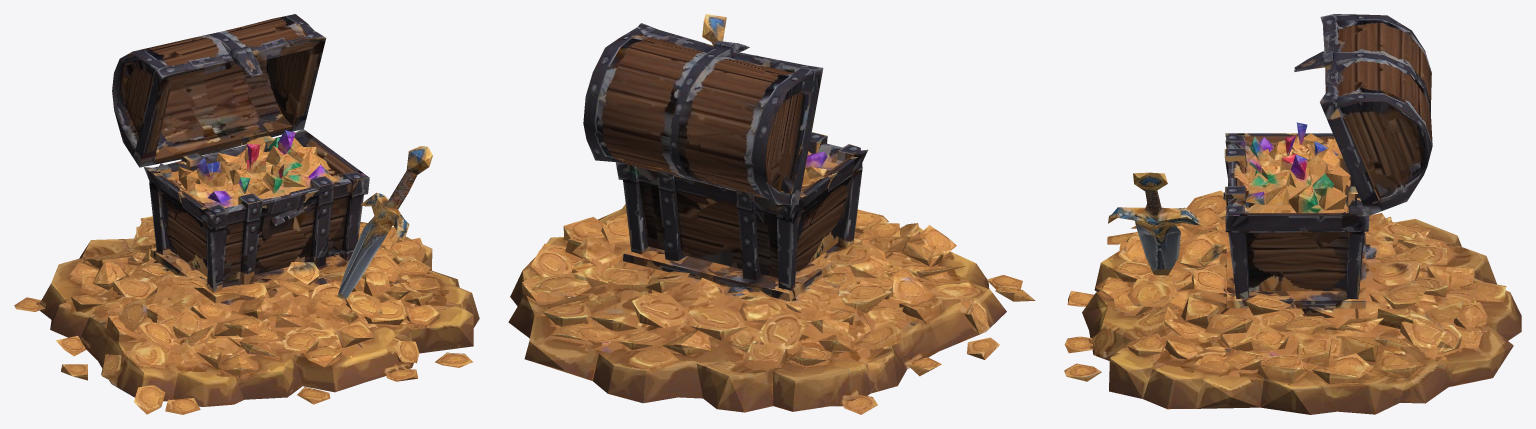
File: treasure.glb
3 views of the same model, side by side, from view 1: azimuth 30°, elevation 25°; view 2: azimuth 150°, elevation 25°; view 3: azimuth 270°, elevation 25° (orthographic). The views are drawn at different scales.
Parts seen in each view (by area): view 1: Mesh; view 2: Mesh; view 3: Mesh.
Part boxes in pixels (x1,y1,x2,y2): Mesh: [14, 14, 479, 414]; Mesh: [508, 14, 1035, 414]; Mesh: [1064, 14, 1521, 414].
Bounding box in the file's own units: 1 × 0.6359 × 0.9732.
Materials: 1 (1 with a texture image).
